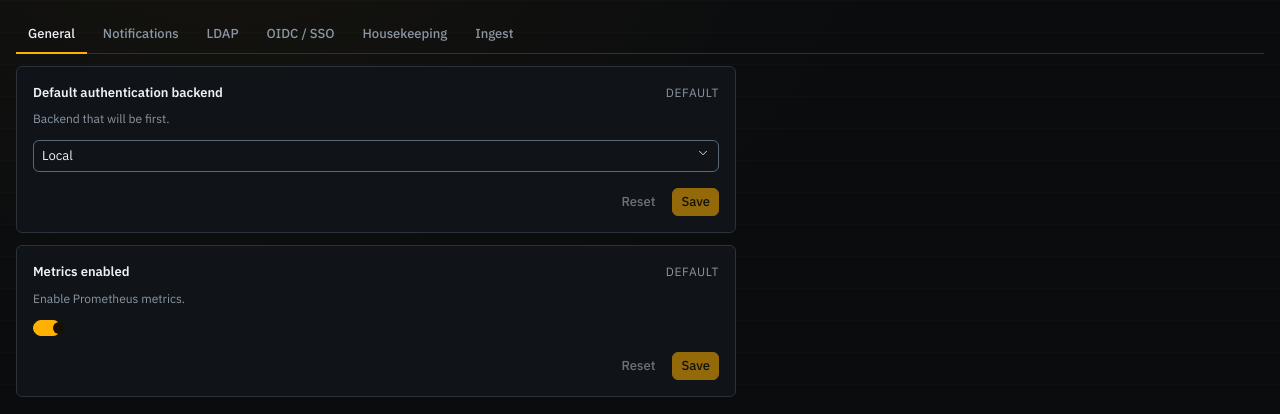
Test: SettingsPage › switches to the LDAP tab and renders the ldap cards
What coordinates should you click on to do the following:
click the tab "LDAP"
I would click on:
 (223, 35)
Its box is [195,16,251,54].
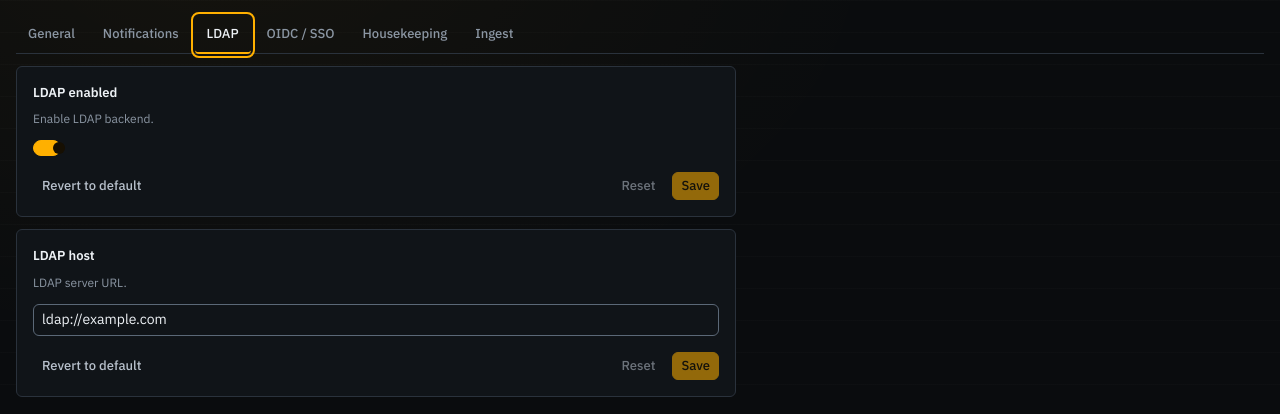
expect the text "LDAP host" is shown: met, box [33,246,95,266]
expect the field labelled "LDAP host" holds "ldap://example.com": met, box [34,309,718,330]
